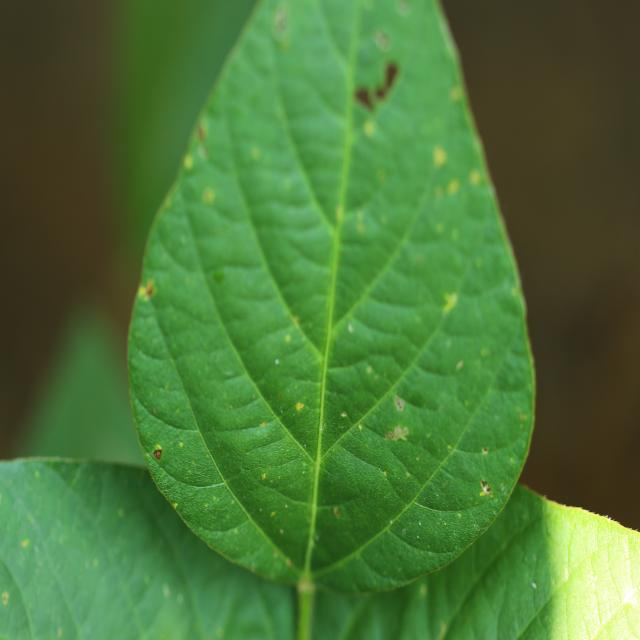Soybean: (125, 0, 640, 640)
downey_mildew: (138, 10, 513, 579), (447, 4, 640, 361), (151, 443, 518, 598), (154, 103, 301, 412), (308, 13, 476, 276), (0, 5, 135, 321), (247, 287, 408, 548), (372, 277, 529, 542), (255, 8, 373, 246), (165, 401, 349, 538), (322, 158, 438, 355), (115, 5, 224, 208), (318, 10, 367, 458), (6, 301, 142, 459), (0, 466, 112, 638), (314, 312, 442, 459), (423, 499, 541, 639), (127, 243, 192, 480), (414, 252, 520, 391), (144, 329, 278, 435), (302, 504, 448, 599), (539, 278, 634, 422), (169, 538, 289, 638), (231, 317, 330, 429), (197, 259, 295, 372), (557, 510, 640, 635), (384, 383, 501, 471), (333, 9, 409, 137), (173, 172, 256, 281), (96, 517, 169, 640), (402, 433, 511, 512), (292, 402, 328, 640), (303, 383, 390, 473), (334, 290, 435, 366), (303, 437, 402, 514), (230, 426, 322, 508), (412, 278, 496, 366), (426, 149, 495, 254), (317, 573, 423, 640), (391, 495, 501, 559), (447, 371, 531, 454), (148, 468, 249, 534), (493, 533, 553, 640), (247, 481, 384, 523), (264, 210, 344, 281), (145, 429, 227, 490), (531, 491, 631, 534), (271, 395, 334, 463), (316, 1, 378, 69), (135, 383, 217, 434), (370, 386, 425, 461), (310, 326, 332, 502), (0, 542, 36, 640), (600, 534, 639, 615), (2, 454, 139, 476), (198, 382, 275, 419), (579, 597, 640, 640), (356, 59, 399, 111), (387, 379, 445, 416), (153, 574, 196, 622), (491, 346, 532, 394), (563, 509, 585, 594), (180, 116, 210, 176), (255, 456, 291, 494), (383, 409, 410, 443), (135, 291, 154, 317), (382, 62, 399, 91), (273, 5, 289, 34), (354, 86, 373, 110), (310, 446, 324, 477), (138, 279, 156, 301), (374, 28, 390, 49), (442, 292, 458, 313), (622, 587, 638, 606), (435, 621, 449, 640), (433, 146, 446, 165), (363, 119, 376, 137), (202, 188, 215, 204), (447, 178, 459, 195), (450, 86, 463, 101), (397, 0, 410, 15), (470, 170, 482, 186), (197, 145, 208, 162), (222, 368, 238, 379), (213, 270, 225, 284), (624, 599, 636, 613), (250, 146, 261, 161), (197, 123, 206, 141), (184, 155, 194, 170), (356, 220, 365, 234), (339, 409, 349, 421), (1, 591, 9, 605), (216, 627, 225, 639), (138, 286, 147, 298), (285, 557, 294, 568), (452, 229, 460, 241), (419, 585, 427, 597), (163, 585, 170, 598), (21, 538, 29, 548), (563, 567, 569, 580), (177, 593, 184, 604), (337, 210, 343, 222), (519, 413, 527, 422), (117, 508, 124, 518), (347, 323, 354, 333), (482, 446, 489, 455), (366, 365, 372, 375), (57, 628, 63, 638), (605, 514, 613, 521), (93, 558, 99, 567), (84, 561, 90, 570), (285, 334, 291, 343), (149, 471, 155, 480), (34, 470, 40, 478), (273, 551, 279, 559), (314, 533, 320, 541), (447, 444, 453, 451), (500, 485, 506, 492), (172, 502, 178, 509), (152, 407, 157, 415), (270, 511, 276, 517), (251, 393, 256, 400), (457, 512, 462, 519), (279, 528, 284, 535), (212, 496, 217, 502), (542, 494, 548, 499), (405, 472, 410, 478), (302, 467, 306, 474), (402, 527, 406, 534), (320, 426, 324, 433), (204, 503, 209, 508), (259, 506, 263, 512), (416, 534, 420, 540), (179, 442, 183, 448), (217, 442, 220, 448), (285, 504, 288, 509)
